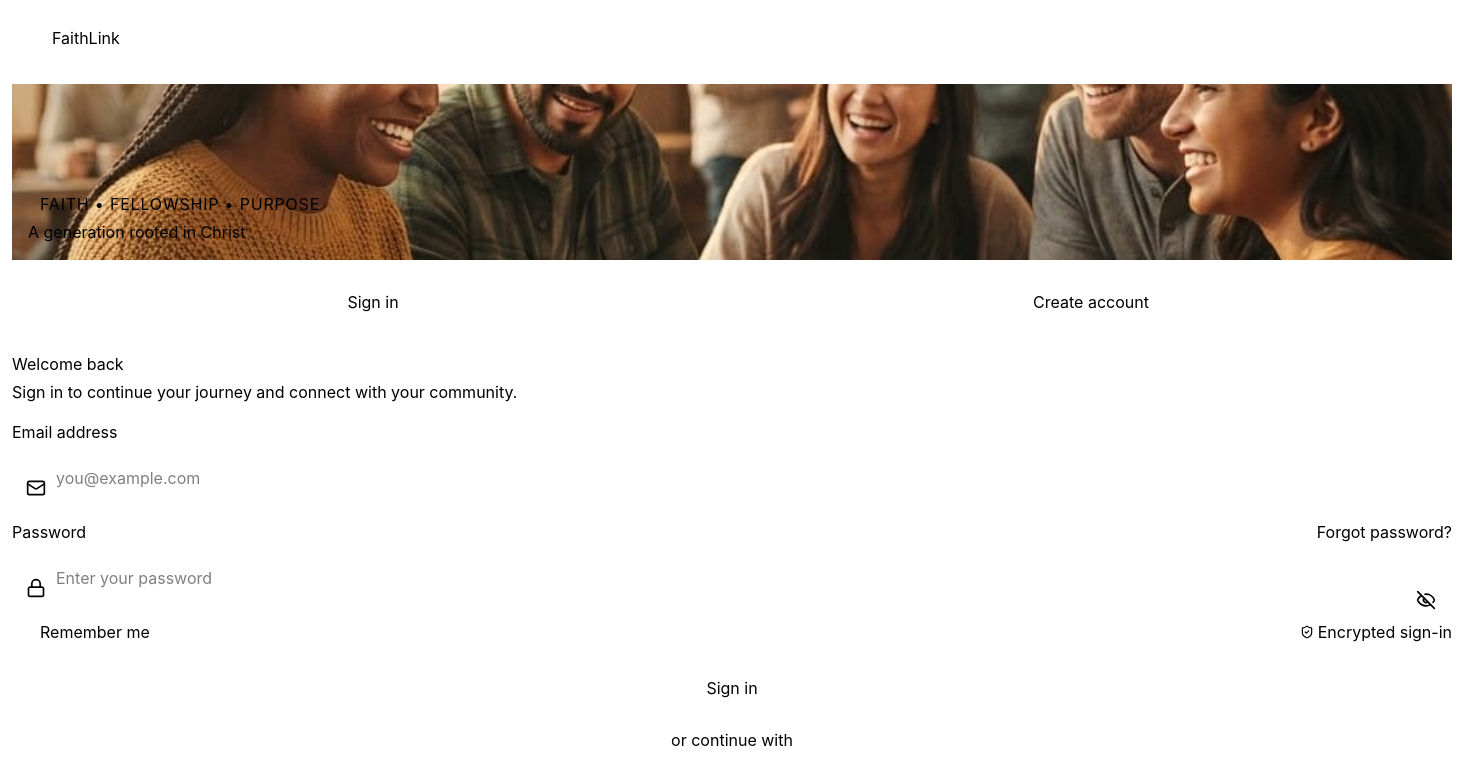
Sign in page › flags an invalid email while typing and clears it once valid
In the field labelled "Email address": (732, 478) [12,452,1452,504], type "alex@exa"
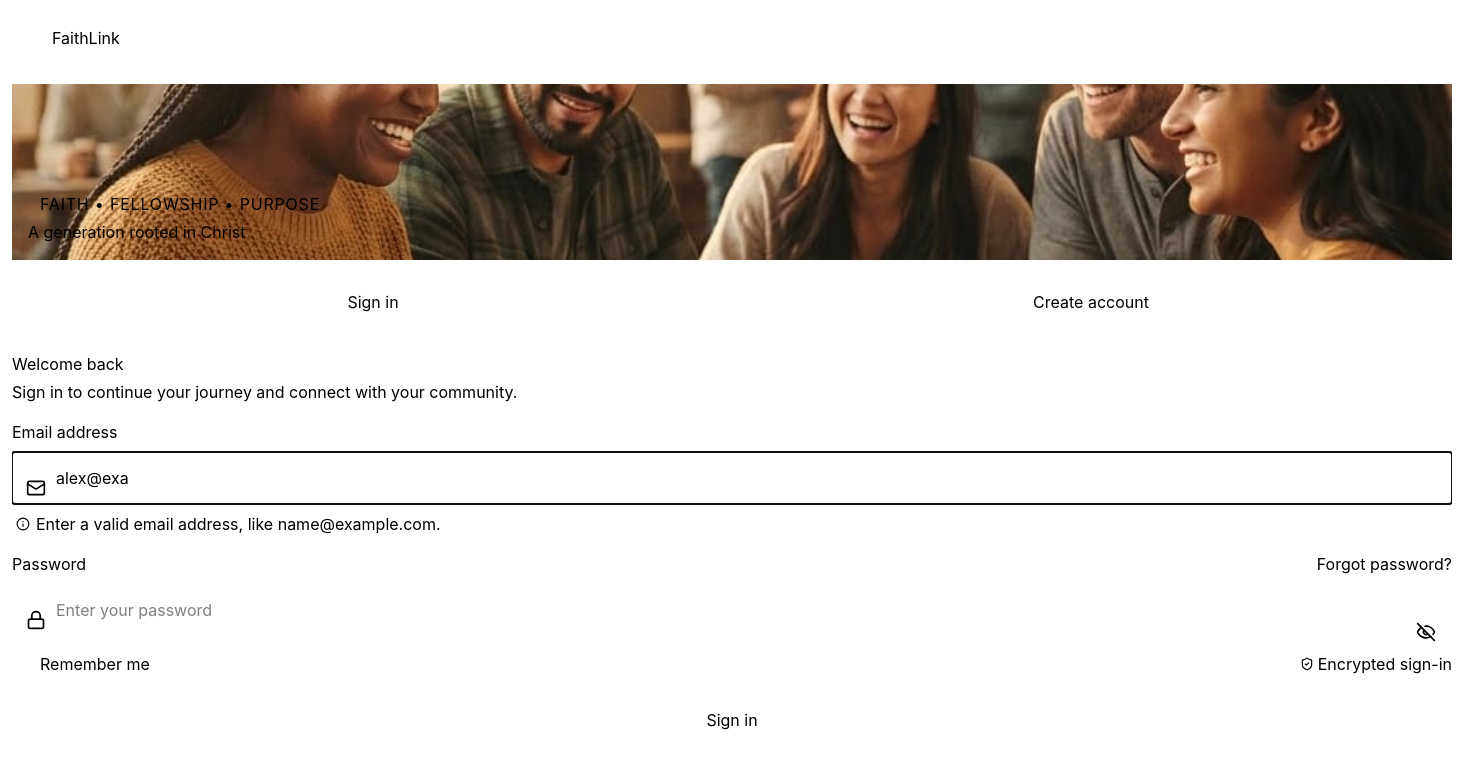
Result: the text "Enter a valid email address, like name@example.com." is shown at [16,514,441,534]
In the field labelled "Email address": (732, 478) [12,452,1452,504], type "mple.com"
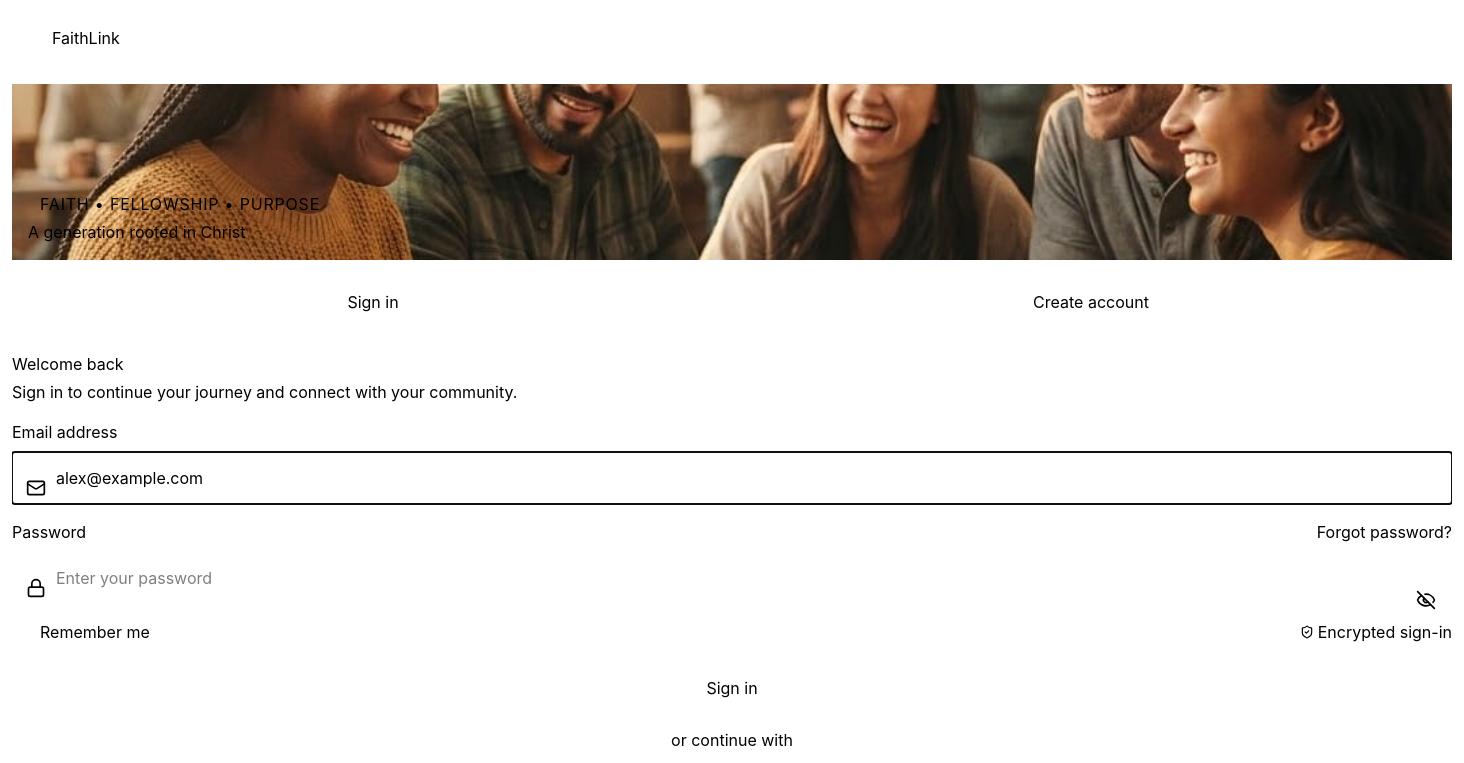
Result: the text "Enter a valid email address, like name@example.com." is gone
